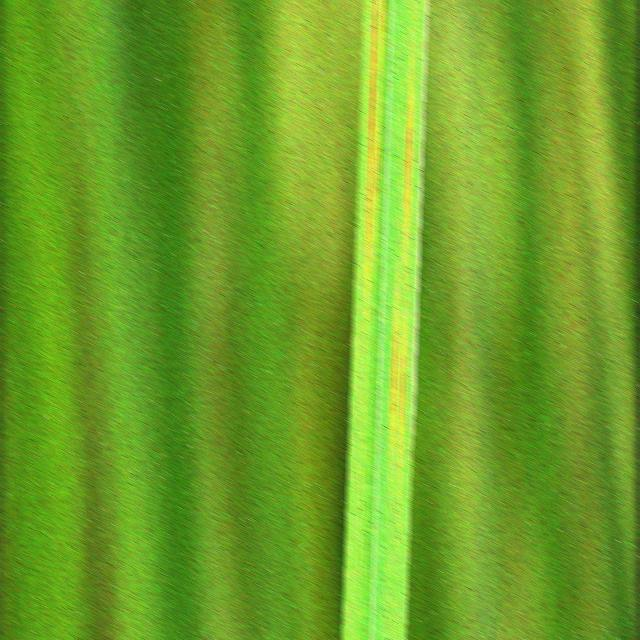NBS: (366, 0, 379, 293), (405, 85, 413, 256), (391, 291, 397, 451), (401, 338, 406, 448), (376, 128, 380, 238), (383, 0, 387, 50)
